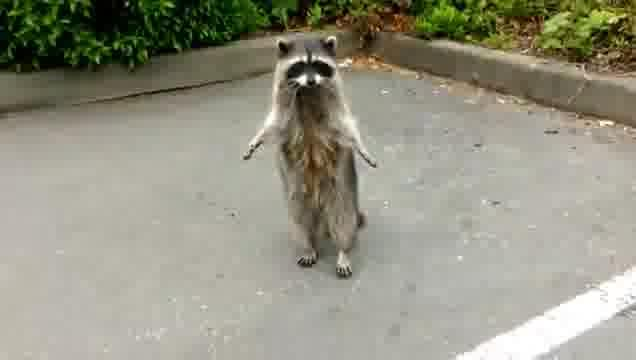raccoon: (240, 32, 379, 281)
